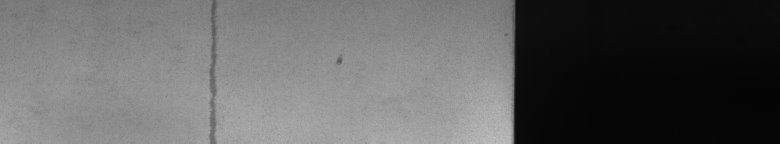hd: (204, 4, 223, 136)
